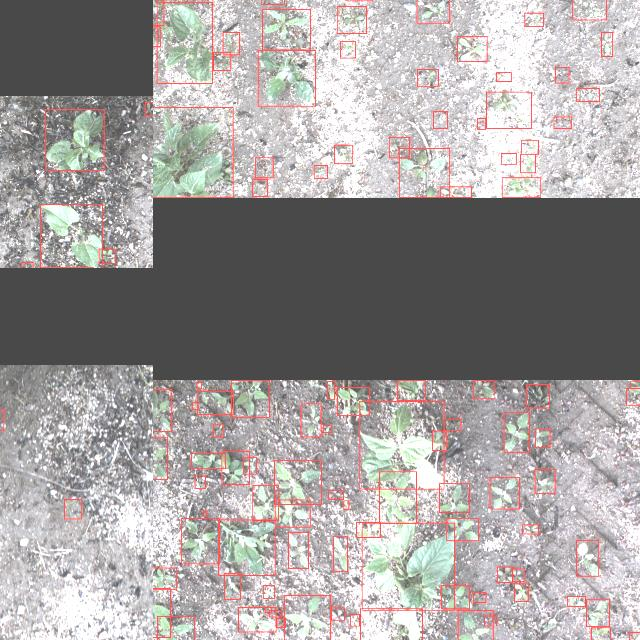crop: (362, 522, 454, 610), (359, 401, 443, 489), (153, 107, 232, 197), (156, 2, 212, 84), (40, 204, 102, 268), (44, 110, 104, 170), (258, 50, 314, 106), (218, 519, 274, 575), (283, 595, 330, 640), (274, 460, 320, 504), (378, 471, 416, 523), (360, 609, 422, 640), (180, 518, 218, 564), (231, 379, 269, 416), (457, 610, 492, 640), (274, 499, 310, 526), (337, 386, 369, 416), (504, 412, 528, 452), (221, 451, 249, 485), (252, 485, 278, 521), (237, 608, 275, 632), (489, 478, 519, 508), (156, 616, 193, 640), (439, 483, 469, 512), (198, 390, 232, 414), (576, 540, 598, 576), (153, 588, 169, 637), (153, 389, 171, 431), (288, 532, 308, 568), (446, 518, 478, 540), (440, 586, 470, 608), (300, 404, 320, 436), (153, 437, 167, 479), (586, 600, 608, 626), (397, 380, 425, 400), (333, 536, 347, 572), (153, 568, 175, 590), (191, 454, 225, 468), (473, 379, 493, 398), (534, 428, 550, 448), (590, 627, 609, 640), (326, 381, 334, 399)
weed: (398, 148, 449, 198), (262, 10, 310, 50), (486, 92, 530, 128), (336, 6, 366, 34), (456, 36, 486, 62), (502, 178, 540, 198), (416, 0, 449, 23), (572, 0, 606, 20), (526, 384, 548, 408), (534, 469, 554, 493), (388, 138, 409, 158), (224, 573, 240, 599), (222, 32, 240, 54), (356, 522, 380, 538), (440, 186, 470, 198), (254, 158, 272, 178), (417, 70, 438, 86), (334, 146, 352, 164), (212, 52, 230, 70), (64, 499, 80, 519), (576, 88, 598, 102), (600, 32, 612, 56), (432, 430, 446, 450), (98, 248, 115, 264), (520, 154, 534, 173), (520, 140, 538, 154), (524, 12, 542, 26), (514, 584, 528, 602), (153, 0, 163, 25), (252, 180, 266, 197), (626, 387, 640, 404), (242, 456, 255, 474), (433, 112, 447, 128), (554, 67, 568, 83), (340, 42, 354, 58), (496, 568, 512, 582), (554, 117, 570, 129), (566, 596, 584, 606), (444, 420, 461, 430), (313, 166, 327, 178), (511, 568, 523, 582), (500, 154, 516, 164), (522, 524, 538, 534), (331, 608, 344, 620), (262, 586, 274, 598), (496, 72, 510, 82), (328, 490, 342, 500), (193, 476, 204, 488), (476, 118, 486, 130), (153, 27, 159, 47), (213, 424, 223, 436), (473, 593, 485, 603), (484, 616, 496, 626), (349, 614, 359, 626), (145, 102, 153, 115), (269, 610, 281, 618), (260, 0, 283, 4), (630, 380, 640, 388), (276, 618, 284, 628), (21, 262, 32, 268), (322, 424, 330, 432), (191, 401, 197, 409), (344, 500, 348, 510), (196, 382, 200, 388), (202, 510, 206, 516), (264, 608, 270, 612)
